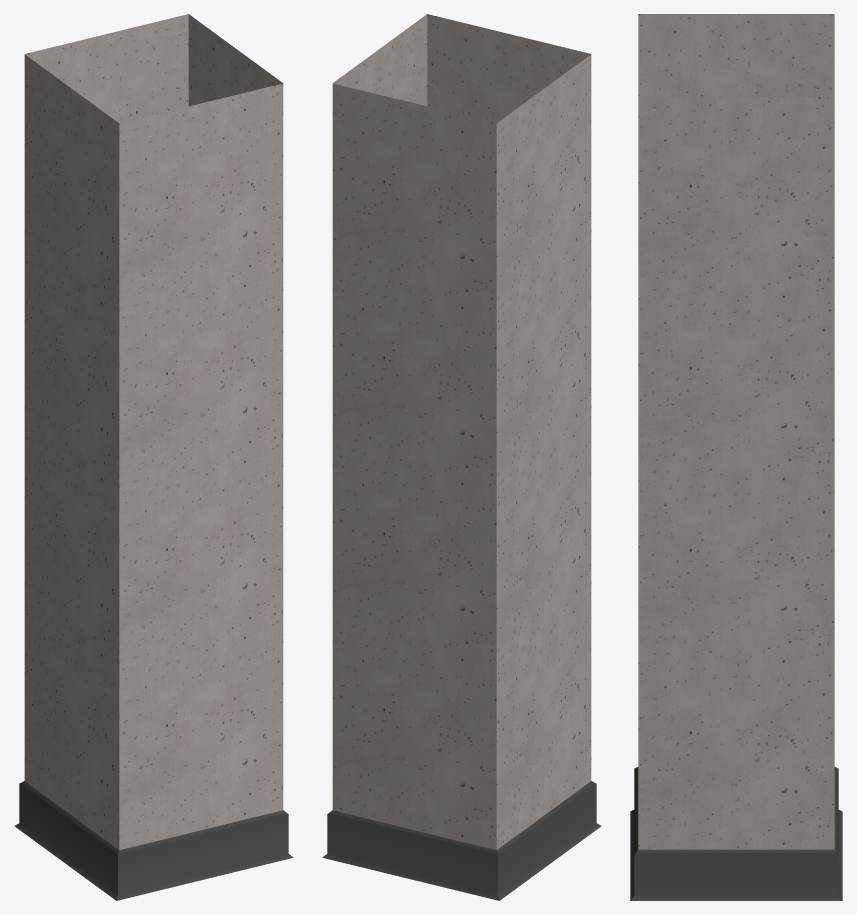
The model's file is PillarSmall.glb.
The picture shows the model from 3 angles, left to right: view 1: azimuth 30°, elevation 25°; view 2: azimuth 150°, elevation 25°; view 3: azimuth 270°, elevation 25°; orthographic projection. The views are drawn at different scales.
Visible parts, largest first — view 1: PillarSmall; view 2: PillarSmall; view 3: PillarSmall.
Boxes of the visible parts, <box> form: PillarSmall: <box>14,14,293,900</box>; PillarSmall: <box>322,14,601,900</box>; PillarSmall: <box>630,14,842,900</box>.
Size of what is drawn, in the model's own units: 0.8364 by 3.49 by 0.8364.
2 materials, 1 textured.
